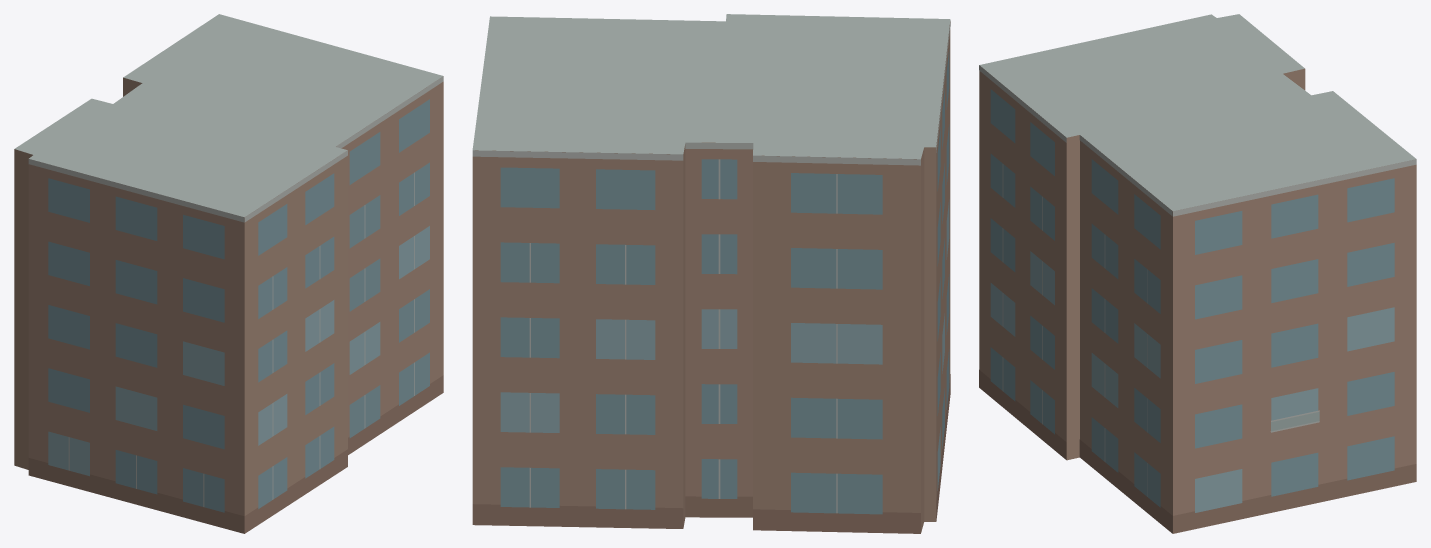
The model's file is survey-upis-32904904.glb.
3 views of the same model, side by side, from view 1: azimuth 30°, elevation 25°; view 2: azimuth 150°, elevation 25°; view 3: azimuth 270°, elevation 25° (orthographic). The views are drawn at different scales.
Visible parts, largest first — view 1: survey-upis-32904904.tmp; view 2: survey-upis-32904904.tmp; view 3: survey-upis-32904904.tmp.
Part boxes in pixels (bbox=[...]): survey-upis-32904904.tmp: bbox=[14, 14, 443, 533]; survey-upis-32904904.tmp: bbox=[472, 14, 950, 533]; survey-upis-32904904.tmp: bbox=[979, 14, 1416, 533].
Bounding box in the file's own units: 18.96 × 14.45 × 17.77.
